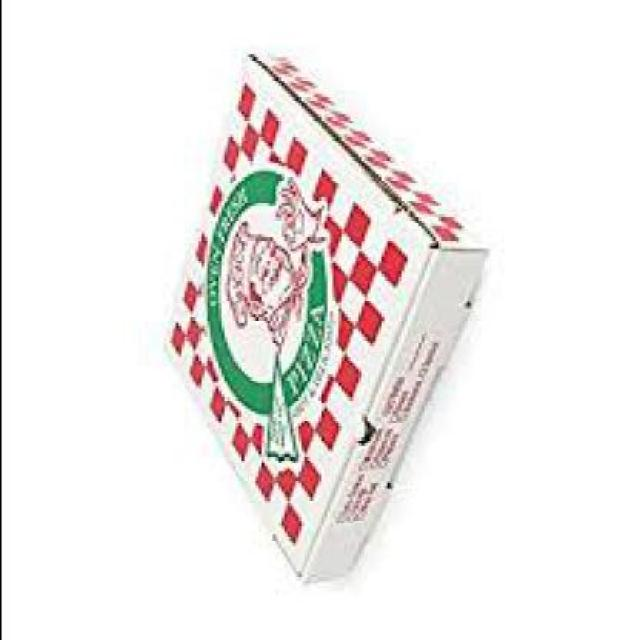CARDBOARD: (160, 57, 480, 586)
